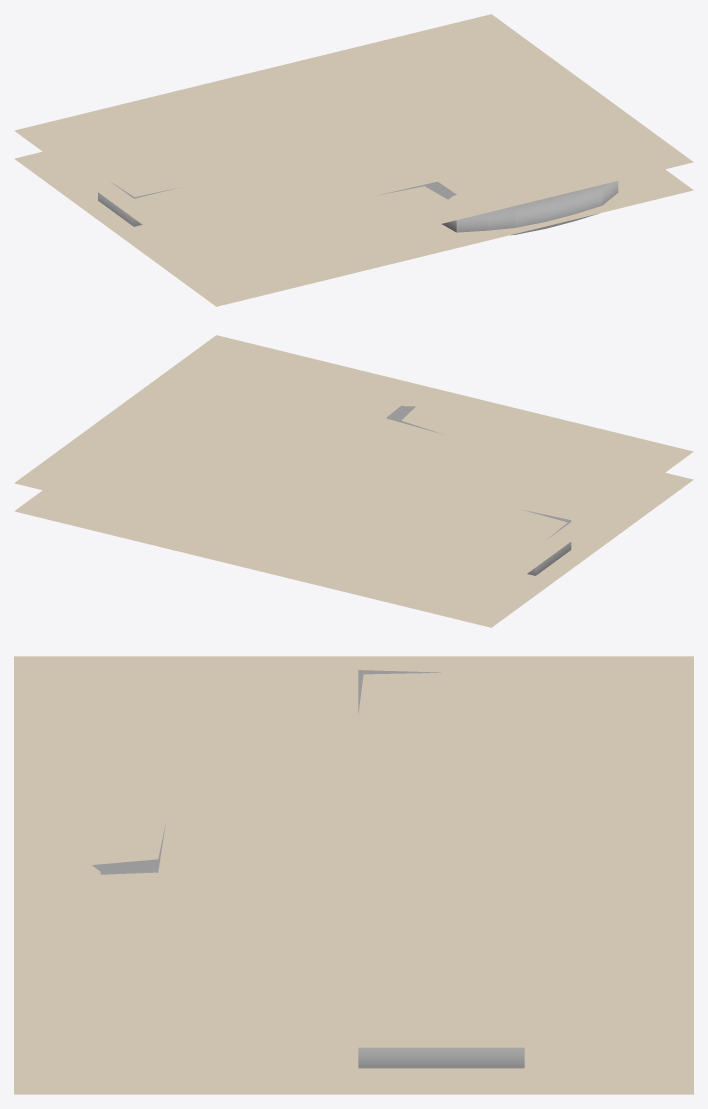
The model's file is seperate wall celling floor.fbx.
3 renders of one model, top to bottom at view 1: azimuth 30°, elevation 25°; view 2: azimuth 150°, elevation 25°; view 3: azimuth 270°, elevation 25°, orthographic. The views are drawn at different scales.
Visible parts, largest first — view 1: celling, floor, wall; view 2: celling, floor, wall; view 3: celling, floor, wall.
Part boxes in pixels (box(x1,y1,x2,y2)): celling: box(14, 14, 693, 278); floor: box(14, 151, 693, 306); wall: box(98, 181, 618, 235); celling: box(14, 335, 693, 599); floor: box(14, 472, 693, 627); wall: box(386, 405, 571, 575); celling: box(14, 656, 693, 1047); floor: box(14, 1047, 693, 1094); wall: box(92, 670, 524, 1068).
Size of the model in its own units: 2103 by 157 by 1544.
